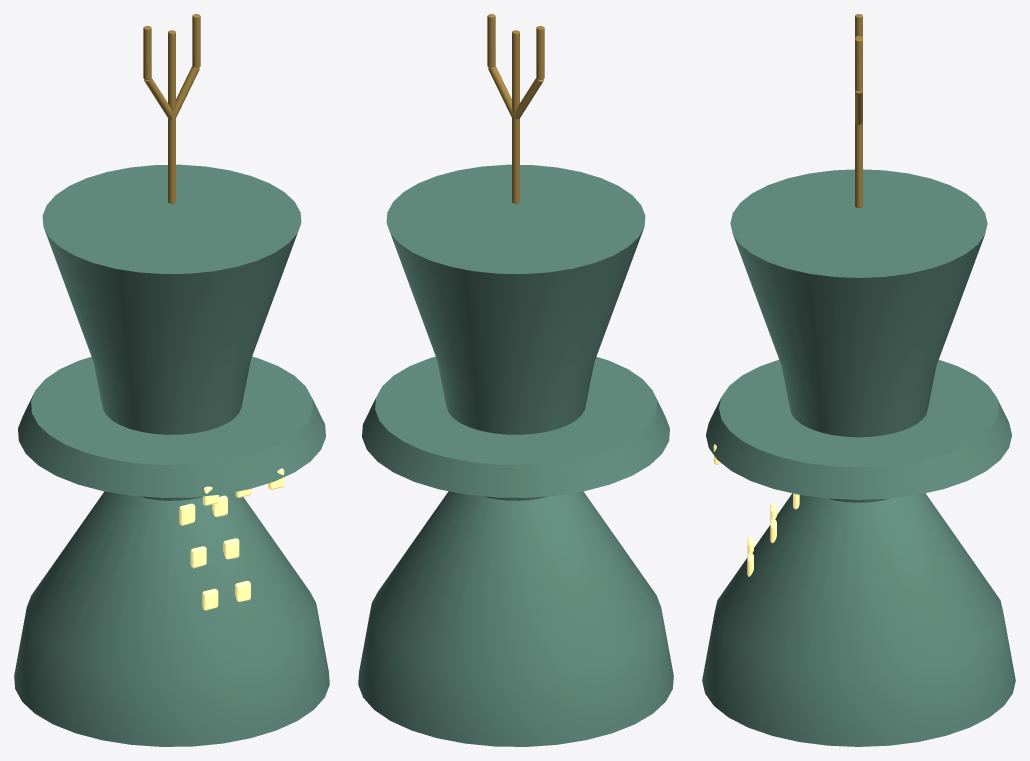
3 renders of one model, left to right at view 1: azimuth 30°, elevation 25°; view 2: azimuth 150°, elevation 25°; view 3: azimuth 270°, elevation 25°, orthographic.
Parts seen in each view (by area): view 1: Flared spindle column, Spindle saucer platform, Aerial stem; view 2: Flared spindle column, Spindle saucer platform, Aerial stem; view 3: Flared spindle column, Spindle saucer platform, Aerial stem.
Boxes of the visible parts, x1,y1,x2,y2 form: Flared spindle column: (14, 164, 329, 746); Spindle saucer platform: (18, 356, 325, 497); Aerial stem: (168, 30, 175, 203); Flared spindle column: (358, 164, 673, 746); Spindle saucer platform: (362, 356, 669, 497); Aerial stem: (512, 30, 519, 203); Flared spindle column: (702, 169, 1015, 746); Spindle saucer platform: (706, 360, 1011, 499); Aerial stem: (855, 36, 862, 207).
Size of the model in its own units: 1.68 by 3.86 by 1.68.
